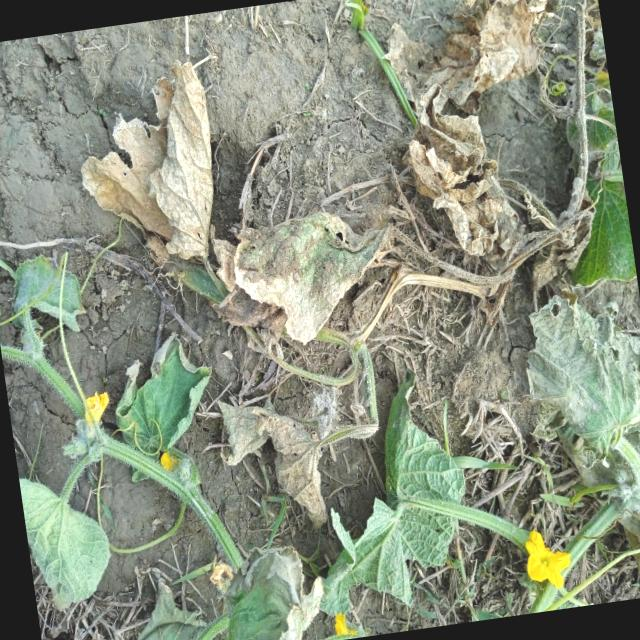cucumber_bacterial: (200, 153, 394, 364), (64, 50, 232, 280), (196, 355, 403, 536), (508, 260, 640, 524), (394, 80, 550, 276), (11, 407, 129, 640)
